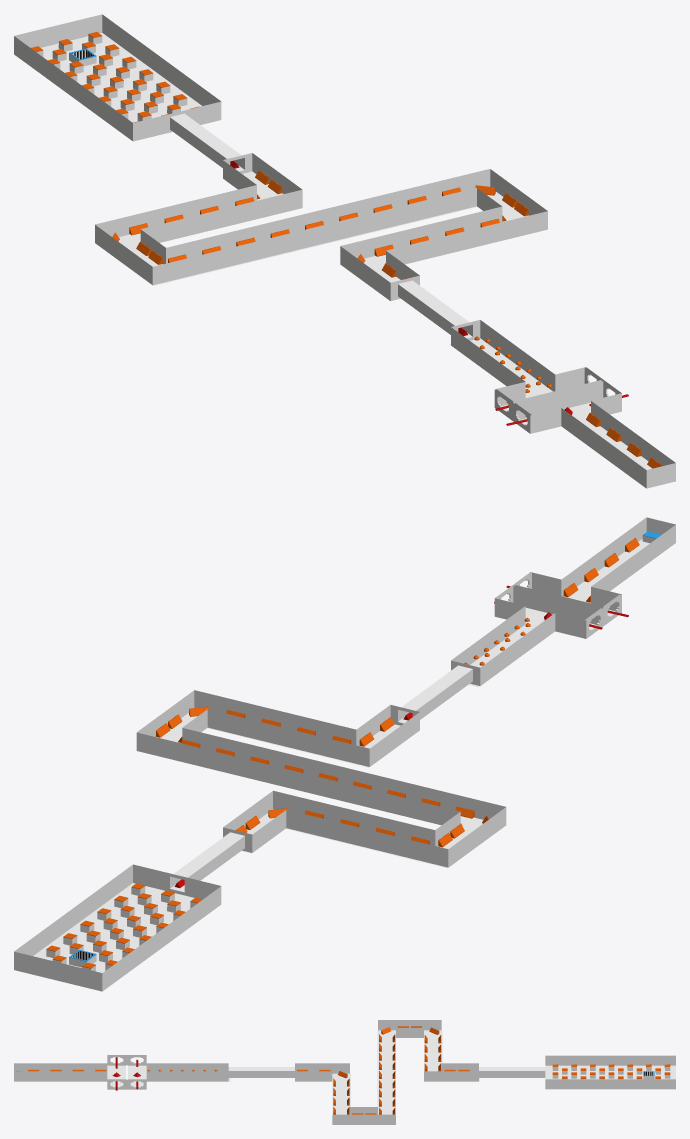
The model's file is LEGO.fbx.
3 renders of one model, top to bottom at view 1: azimuth 30°, elevation 25°; view 2: azimuth 150°, elevation 25°; view 3: azimuth 270°, elevation 25°, orthographic. The views are drawn at different scales.
Parts seen in each view (by area): view 1: walls, surf, floor; view 2: walls, surf, floor; view 3: walls, floor, surf.
Part boxes in pixels (<box>): walls: <box>14,14,675,488</box>; surf: <box>31,32,661,468</box>; floor: <box>41,33,652,469</box>; walls: <box>14,517,675,991</box>; surf: <box>46,538,639,971</box>; floor: <box>33,539,649,972</box>; walls: <box>14,1020,675,1124</box>; floor: <box>107,1030,675,1114</box>; surf: <box>28,1026,670,1114</box>.
Bounding box in the file's own units: 240 × 709 × 21.5.
